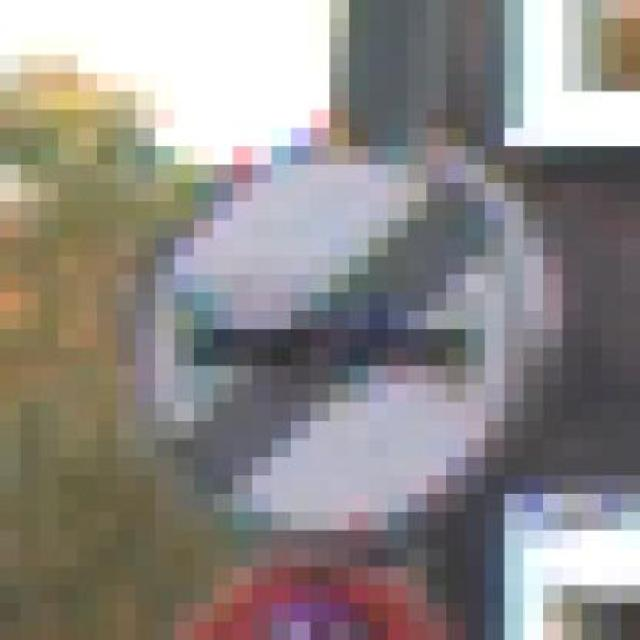No_Over_Taking: (78, 54, 562, 548)
